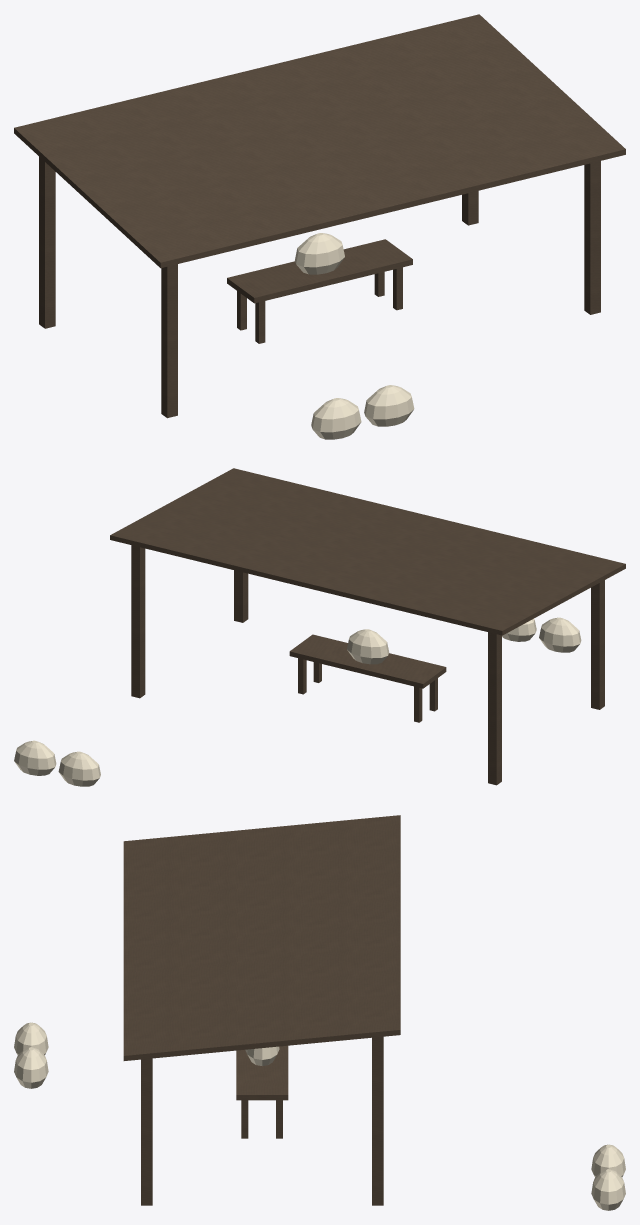
Rendered from granary-receiving-LOD1.glb.
The picture shows the model from 3 angles, top to bottom: view 1: azimuth 30°, elevation 25°; view 2: azimuth 150°, elevation 25°; view 3: azimuth 270°, elevation 25°; orthographic projection. The views are drawn at different scales.
Parts seen in each view (by area): view 1: granary-receiving-static_timber, granary-receiving-static_paper__cargo_proxy; view 2: granary-receiving-static_timber, granary-receiving-static_paper__cargo_proxy; view 3: granary-receiving-static_timber, granary-receiving-static_paper__cargo_proxy.
Part boxes in pixels (x1,y1,x2,y2): granary-receiving-static_timber: (14, 14, 625, 418); granary-receiving-static_paper__cargo_proxy: (295, 233, 414, 439); granary-receiving-static_timber: (110, 468, 625, 785); granary-receiving-static_paper__cargo_proxy: (14, 617, 581, 786); granary-receiving-static_timber: (123, 815, 400, 1205); granary-receiving-static_paper__cargo_proxy: (14, 1022, 625, 1210).
Bounding box in the file's own units: 8.85 × 3.5 × 10.6.
2 materials, 1 textured.
